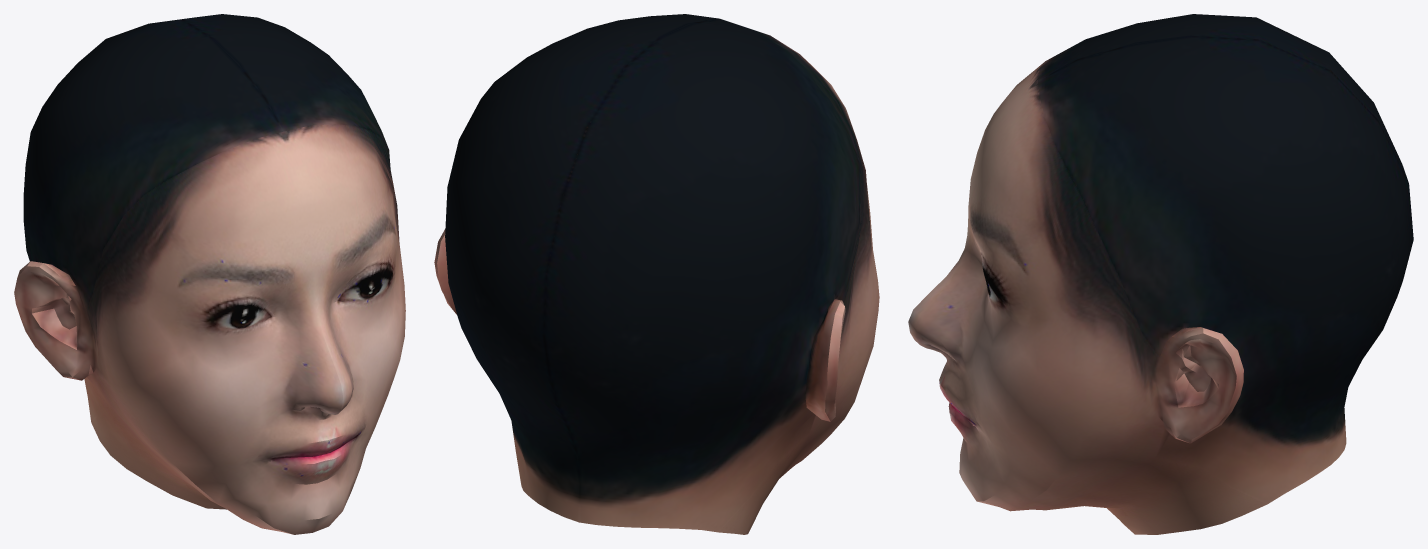
Rendered from face_edan.obj.
3 views of the same model, side by side, from view 1: azimuth 30°, elevation 25°; view 2: azimuth 150°, elevation 25°; view 3: azimuth 270°, elevation 25° (orthographic). The views are drawn at different scales.
Parts seen in each view (by area): view 1: face_edan:face_normal face_edan:polySurface1; view 2: face_edan:face_normal face_edan:polySurface1; view 3: face_edan:face_normal face_edan:polySurface1.
Part boxes in pixels (x1=…): face_edan:face_normal face_edan:polySurface1: x1=14, y1=14, x2=405, y2=534; face_edan:face_normal face_edan:polySurface1: x1=434, y1=14, x2=879, y2=534; face_edan:face_normal face_edan:polySurface1: x1=908, y1=14, x2=1413, y2=534.
Size of the model in its own units: 18.77 by 22.64 by 21.27.
1 material, 1 textured.
